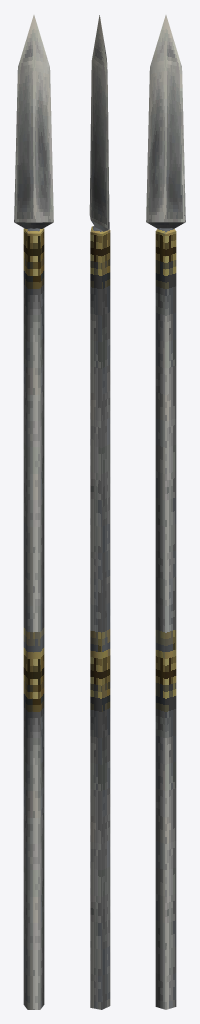
The model's file is lv9_yari.dae.
3 views of the same model, side by side, from view 1: azimuth 90°, elevation 25°; view 2: azimuth 210°, elevation 25°; view 3: azimuth 270°, elevation 25° (orthographic).
Parts seen in each view (by area): view 1: Shape 0; view 2: Shape 0; view 3: Shape 0.
Boxes of the visible parts, x1,y1,x2,y2 form: Shape 0: (14,15,53,1009); Shape 0: (89,15,110,1009); Shape 0: (146,15,185,1009).
Bounding box in the file's own units: 9.83 × 511 × 18.58.
1 material, 1 textured.
